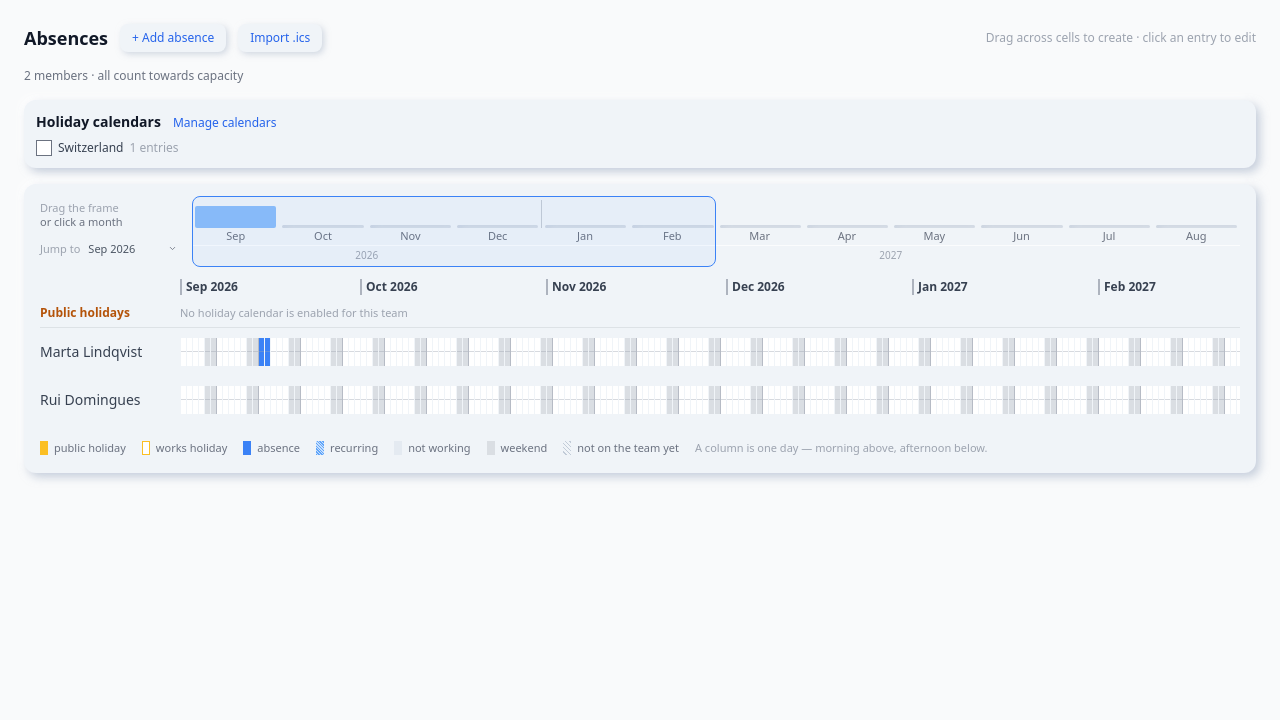
Test: AbsencesView › shows yours and theirs on a 412, rather than a spinner
The image size is (1280, 720).
Expected: the table named "absences by member" is shown, [40,328,1240,424]
Step 1. Click the cell titled "Marta Lindqvist · 2026-09-14 am" → (262, 345), box [259,338,264,352]
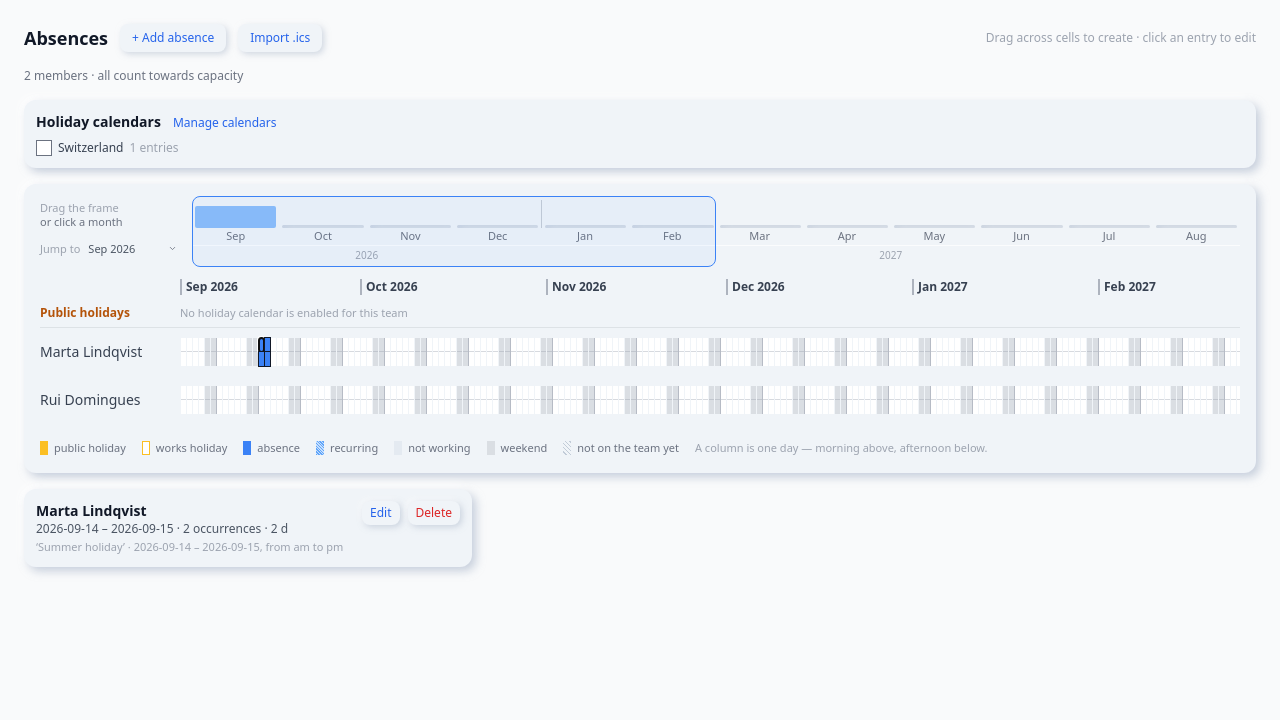
Step 2. Click the button with aria-label "delete absence for Marta" → (434, 512), box [408,500,460,524]
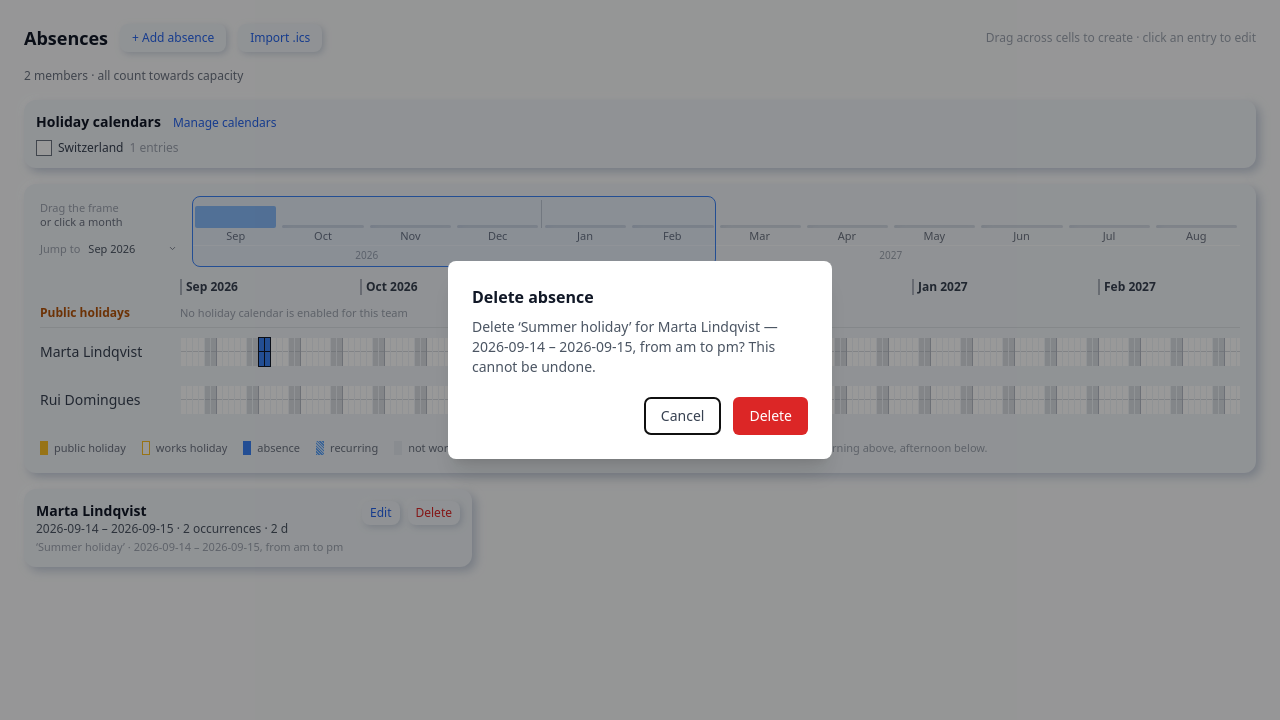
Step 3. Click the button "Delete" → (771, 416), box [733,397,808,435]
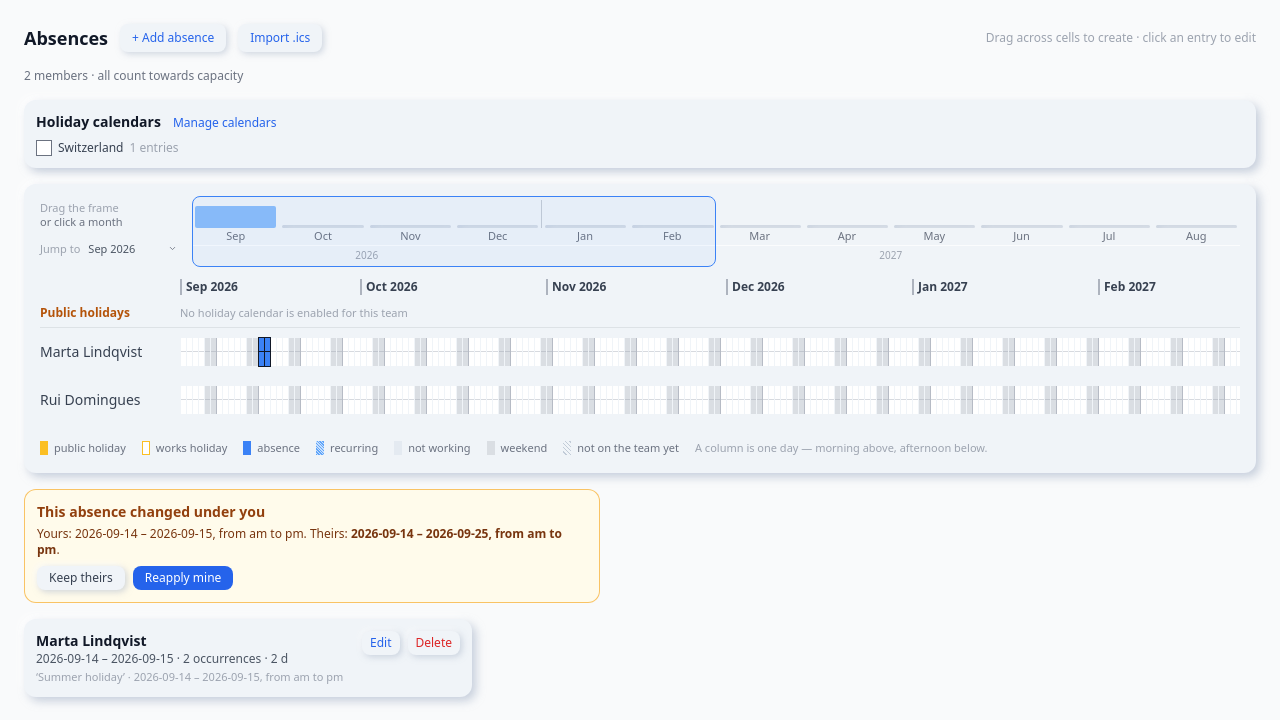
Result: the text "This absence changed under you" is shown at [37,502,265,520]
Result: the button "Keep theirs" is shown at [37,566,125,590]
Result: the button "Reapply mine" is shown at [133,566,233,590]
